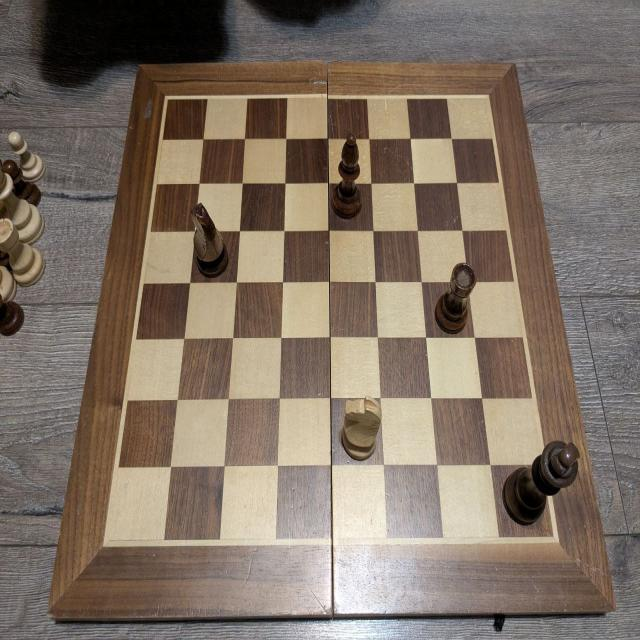black_bishop: (330, 132, 364, 218)
black_king: (502, 438, 580, 527)
black_knight: (188, 198, 230, 280)
black_rook: (436, 258, 477, 335)
white_knight: (341, 392, 382, 462)
